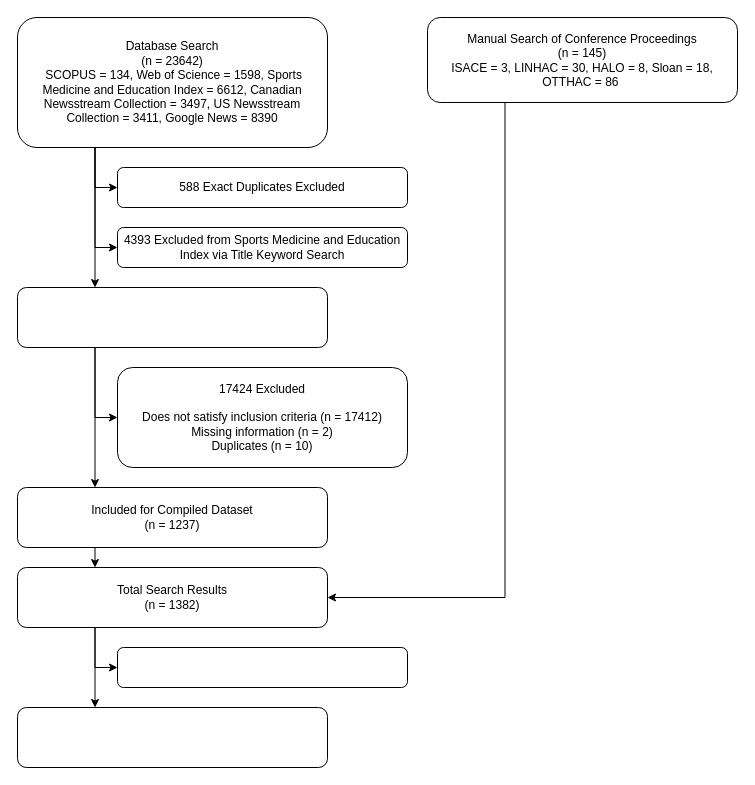
The diagram is 755 pixels wide and 785 high, and some of its shapes have lost their labels. Each missing label, with the centre of its shape:
"63 Exact Duplicates Excluded" goes at pixel 262 667.
"Publications included in Quantitative Analysis (n = 1319)" goes at pixel 172 737.
"Title and Abstract/Summary Manually Screened (n = 18661)" goes at pixel 172 317.
